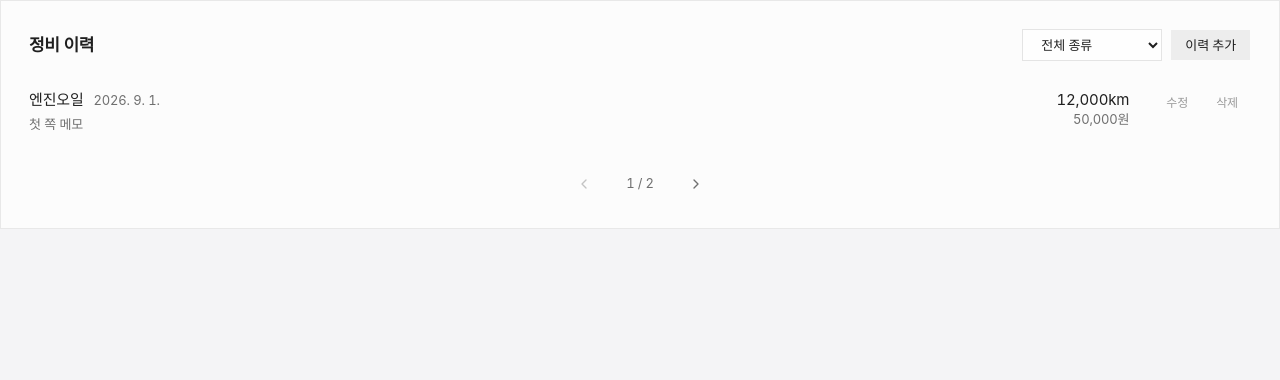
MaintenanceSection › 쪽 이동 실패 문구가 떠 있어도 삭제 실패 문구가 함께 보인다
Expected: the text "첫 쪽 메모" is shown, [29,116,83,132]
Click the button named "다음 페이지": (696, 184) [680,168,712,200]
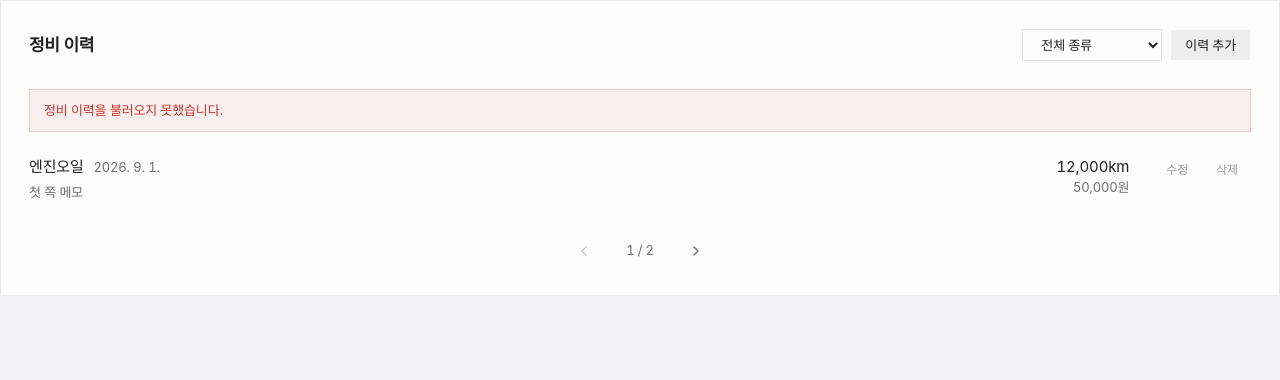
Expected: the message "정비 이력을 불러오지 못했습니다." is shown, [29,89,1251,132]
Click the button "삭제": (1227, 170) [1203,156,1251,184]
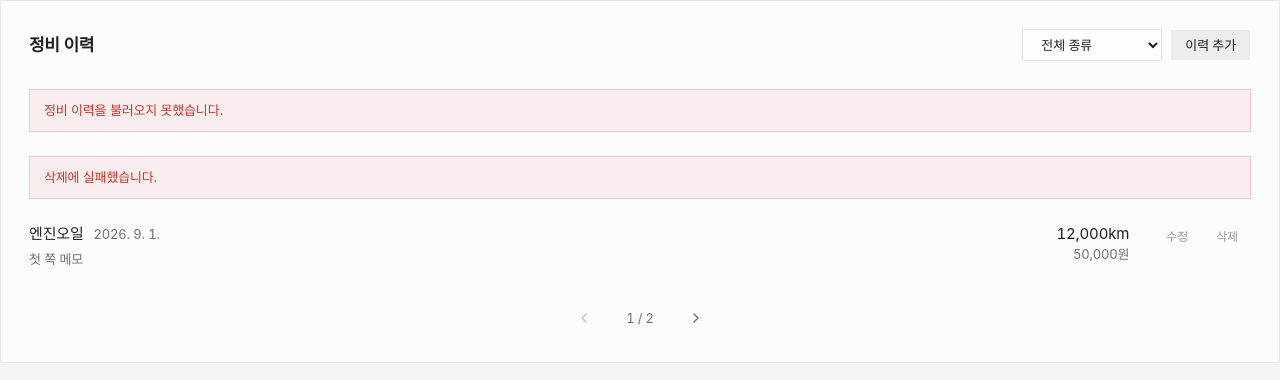
Expected: the text "정비 이력을 불러오지 못했습니다." is shown, [29,89,1251,132]
Expected: the number of messages is 2, [29,89,1251,132]; [29,156,1251,199]
